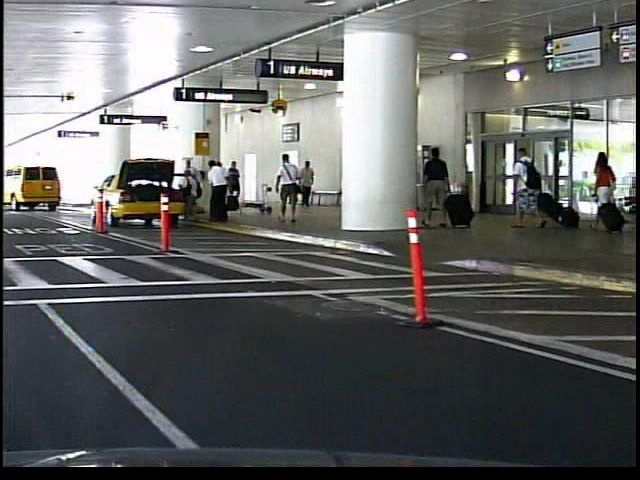person: (506, 142, 544, 229), (583, 145, 618, 231), (416, 142, 447, 229), (269, 150, 300, 224), (296, 160, 314, 208)
